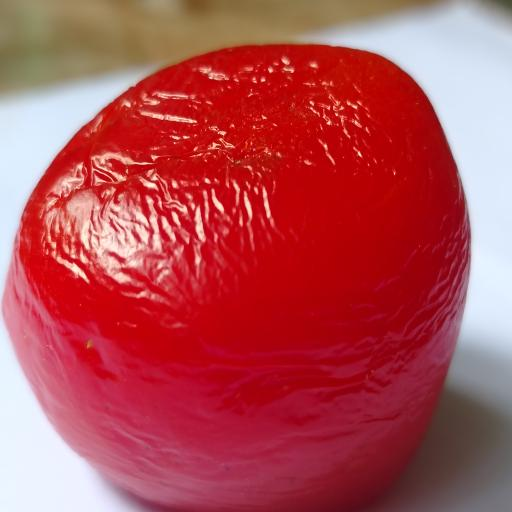spoiled: (3, 45, 469, 512)
